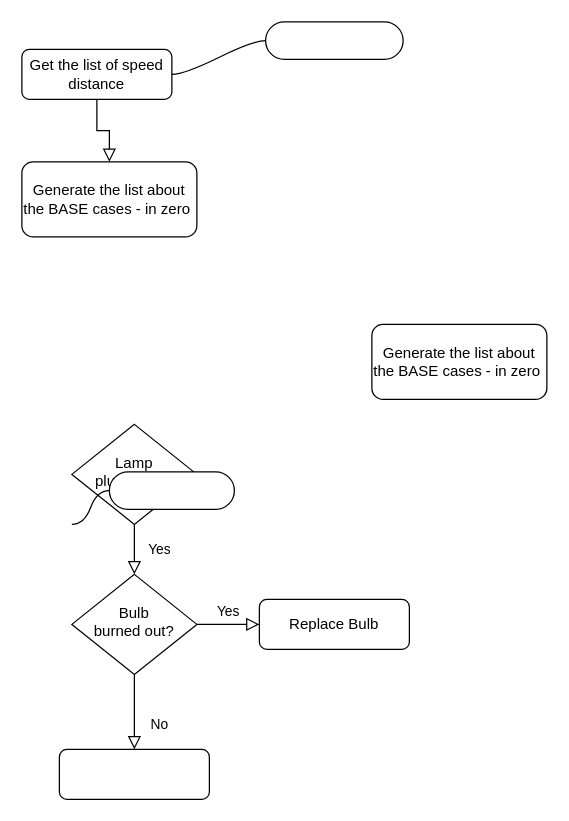
The diagram is 569 pixels wide and 821 high, and some of its shapes have lost their labels. The box of each missing label's shape, as (x1, y1, x2, y2) in pixels:
+1,+5,-3, etc: (264, 21, 403, 59)
Repair Lamp: (58, 748, 209, 799)
Sub Topic: (108, 471, 234, 509)
